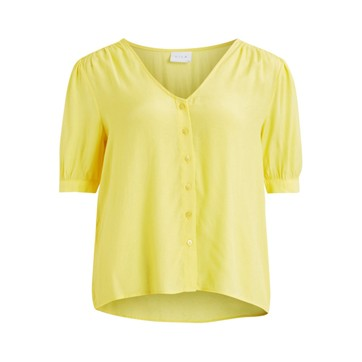C_short blouse: (49, 35, 331, 338)
